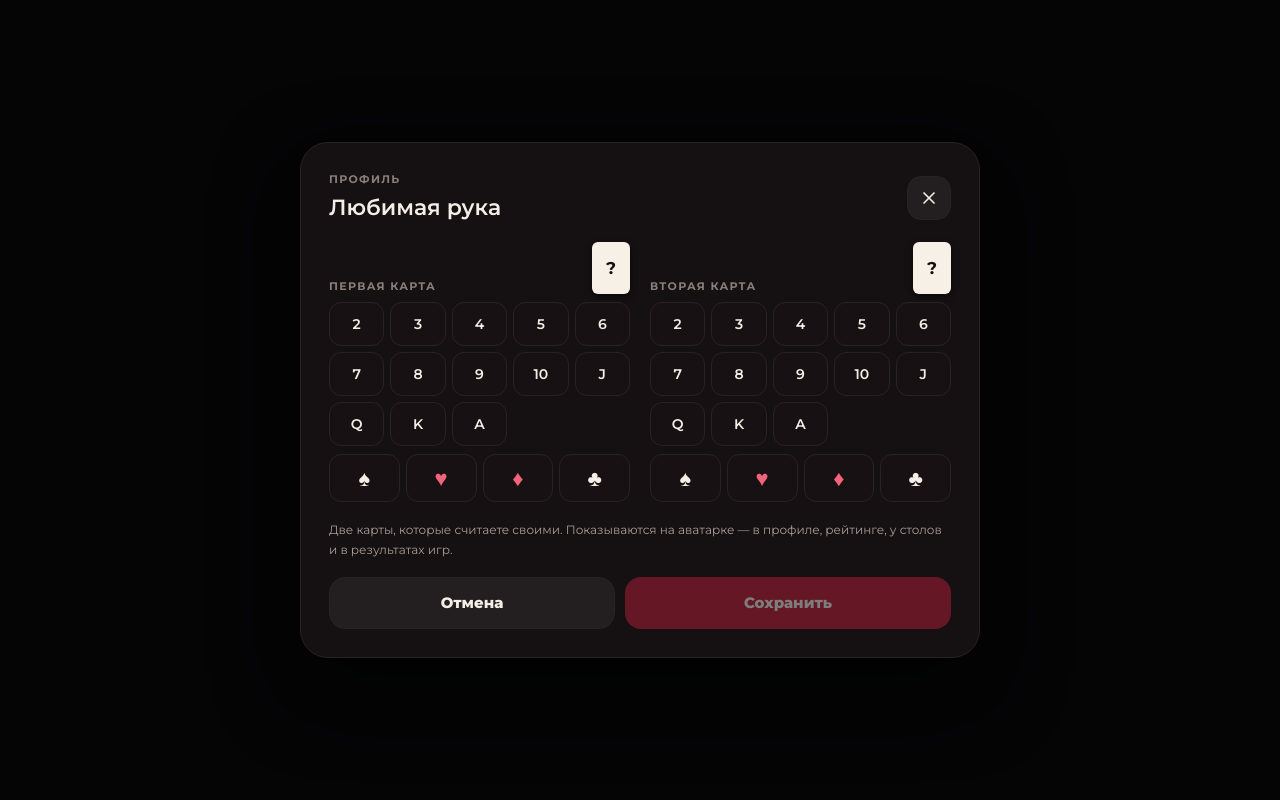
FavoriteHandPicker › never offers the card the other half already is
What coordinates should you click on to do the following:
click the button "A" below "Первая карта"
I would click on:
 (480, 424)
Its box is [452, 402, 507, 446].
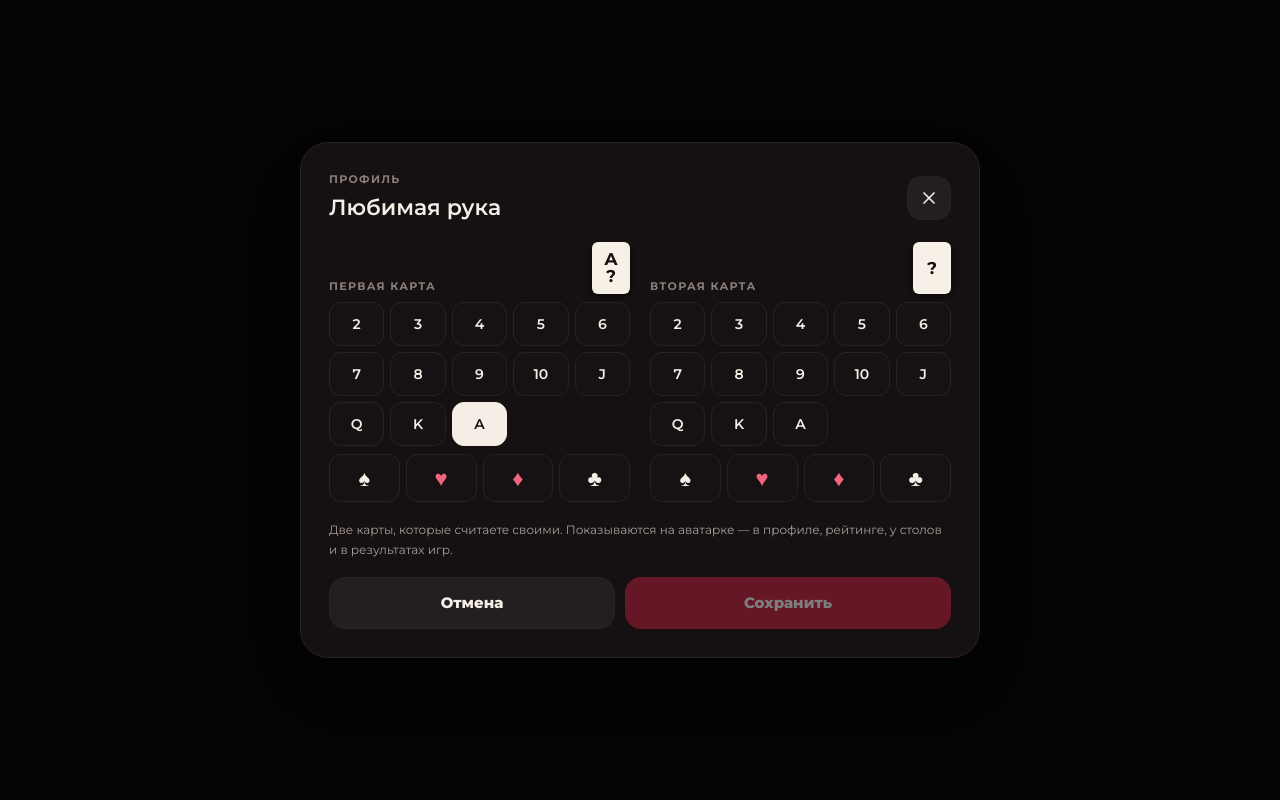
What coordinates should you click on to do the following:
click the button named "червы"
I would click on:
 (441, 478)
Its box is [406, 454, 477, 502].
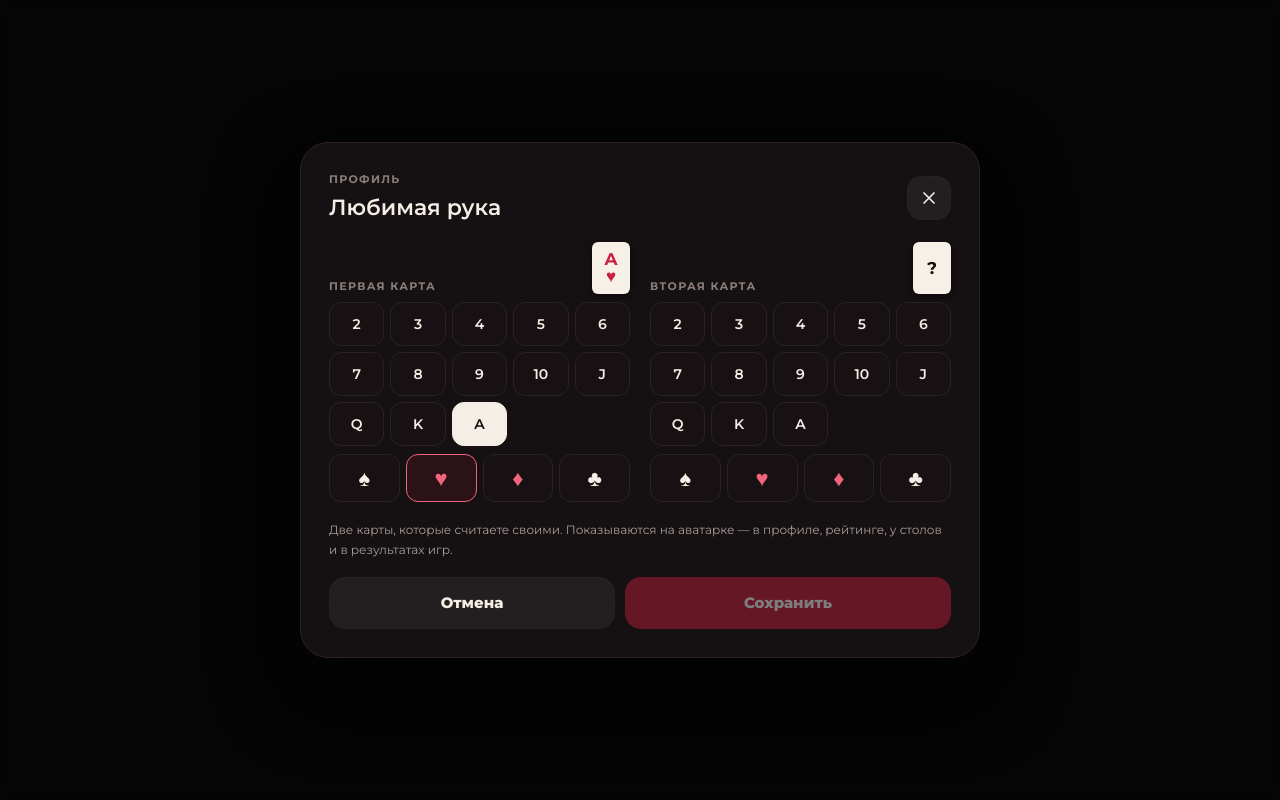
What coordinates should you click on to do the following:
click the button "A" below "Вторая карта"
I would click on:
 (800, 424)
Its box is [773, 402, 828, 446].
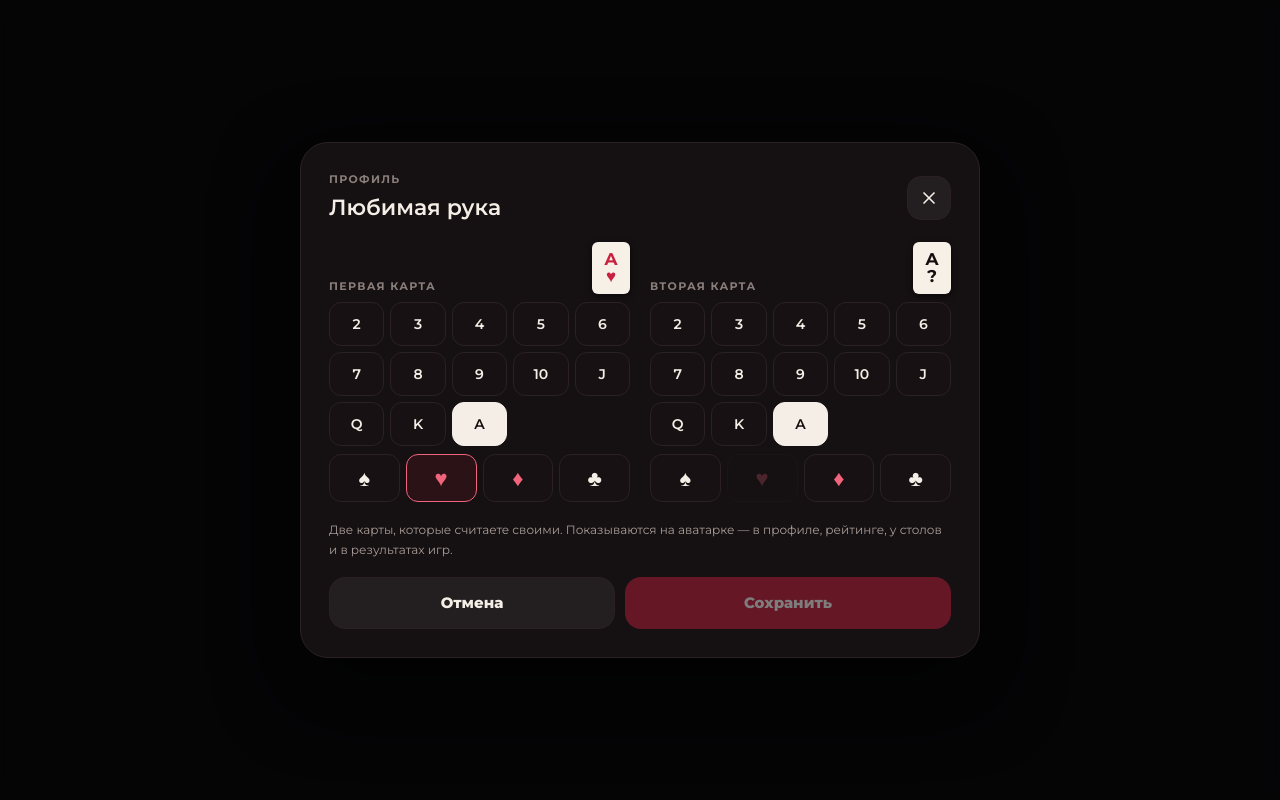
Check: the button named "бубны" is enabled, box [804, 454, 874, 502]
Check: the button named "червы" is disabled, box [727, 454, 798, 502]
